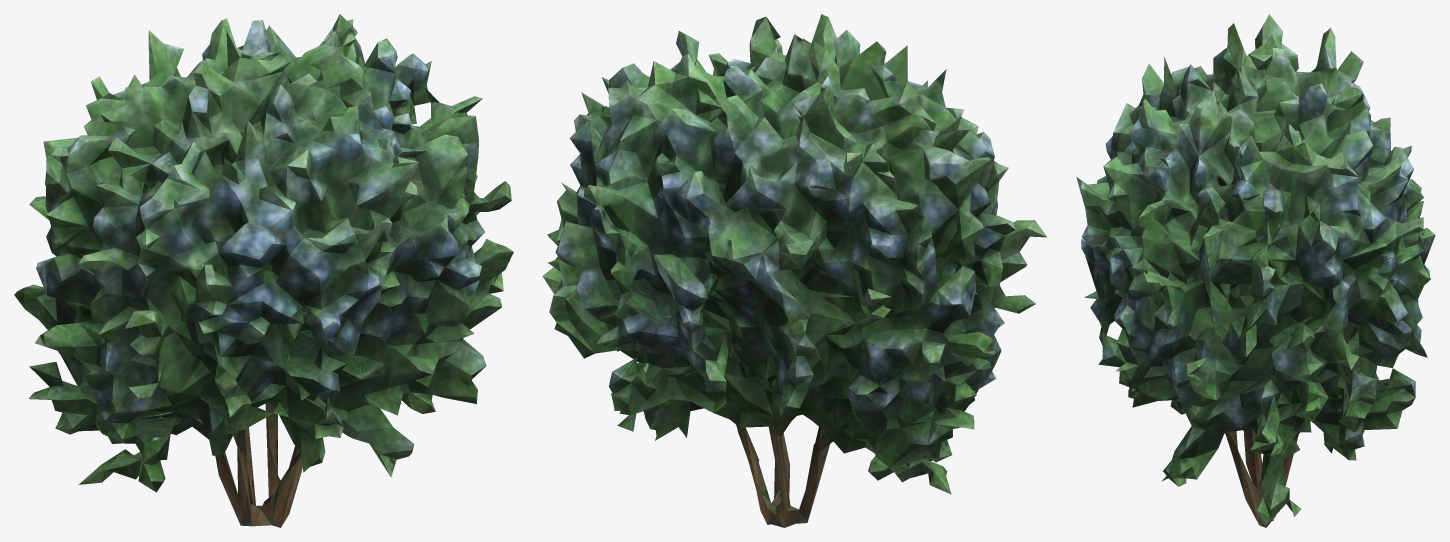
File: bush.glb
3 renders of one model, left to right at view 1: azimuth 30°, elevation 25°; view 2: azimuth 150°, elevation 25°; view 3: azimuth 270°, elevation 25°, orthographic. The views are drawn at different scales.
Visible parts, largest first — view 1: output_unwrapped; view 2: output_unwrapped; view 3: output_unwrapped.
Boxes of the visible parts, x1,y1,x2,y2 form: output_unwrapped: [14, 14, 513, 527]; output_unwrapped: [542, 14, 1046, 527]; output_unwrapped: [1076, 14, 1435, 527].
Size of the model in its own units: 1.86 by 1.95 by 1.36.
1 material, 1 textured.
